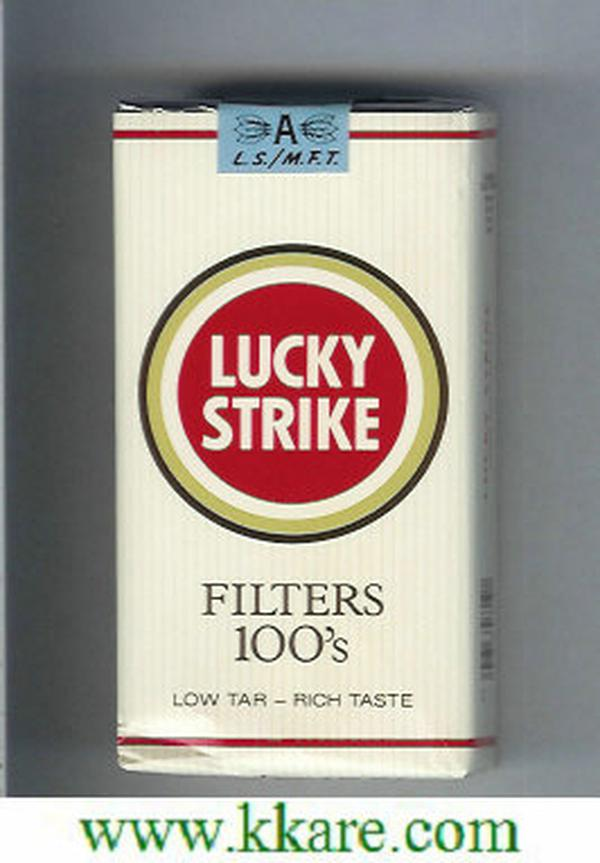lucky_strike_red: (112, 112, 477, 779)
